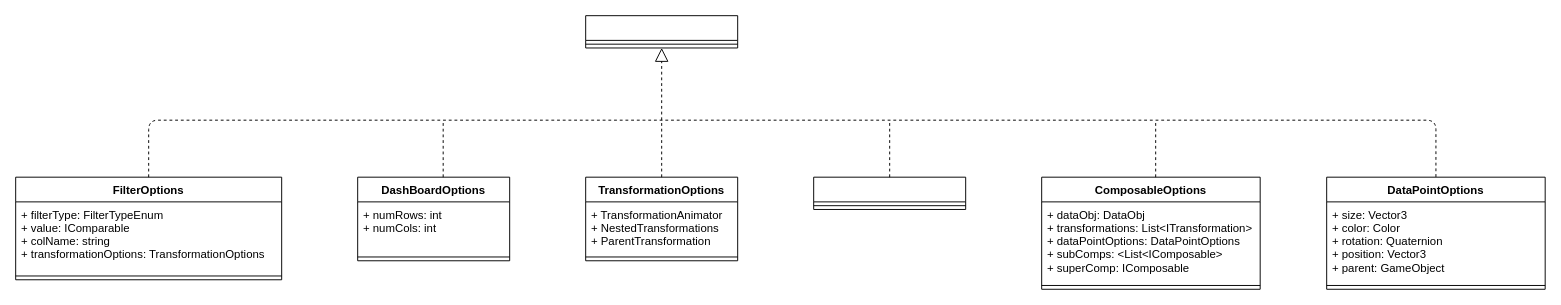
Image size: 1561x305. Some labels were removed from this diagram. Each missing label, with the centre of its shape:
GraphOptions: pixel 889 192
IOptions: pixel 661 31
